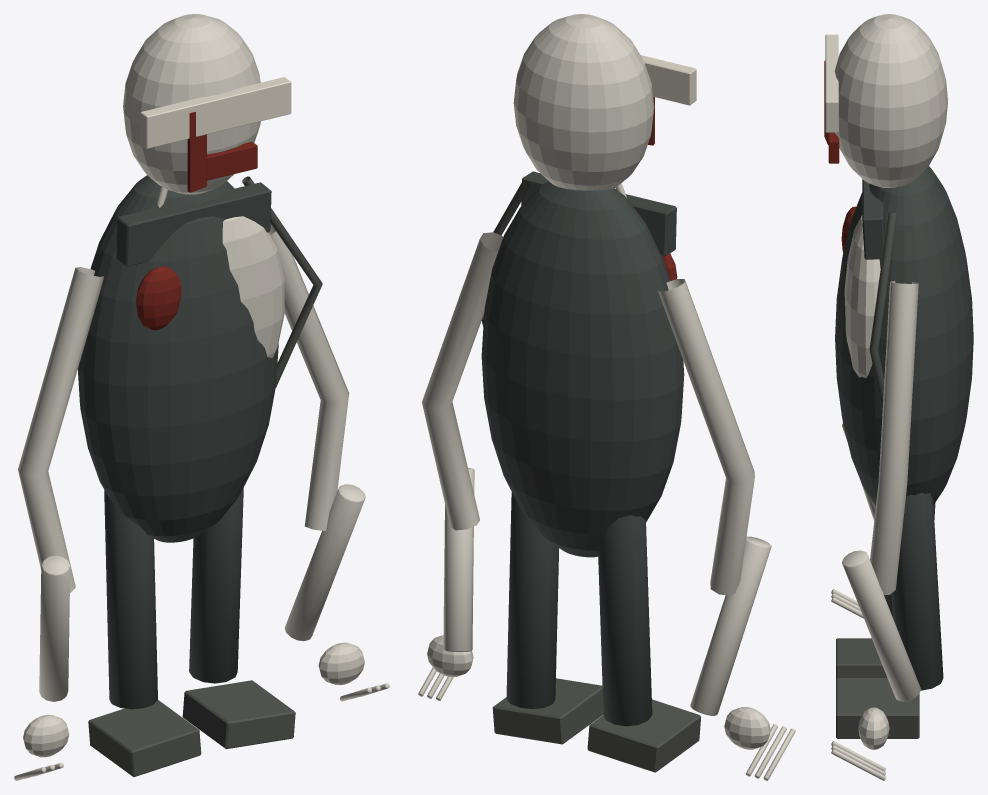
The model's file is dz_enemy_blind_male_B.glb.
3 views of the same model, side by side, from view 1: azimuth 30°, elevation 25°; view 2: azimuth 150°, elevation 25°; view 3: azimuth 270°, elevation 25° (orthographic). The views are drawn at different scales.
Visible parts, largest first — view 1: dz_torso_core, dz_head_forward, dz_limb_leg_L, dz_limb_arm_L, dz_limb_leg_R, dz_limb_arm_R, dz_foot_drag_L, dz_blindfold_wrapped_exact, dz_foot_drag_R, dz_chest_infected_growth, dz_torn_collar_male, dz_limb_forearm_R (+7 smaller); view 2: dz_torso_core, dz_head_forward, dz_limb_leg_L, dz_limb_arm_L, dz_limb_leg_R, dz_limb_arm_R, dz_limb_forearm_L, dz_foot_drag_L, dz_foot_drag_R, dz_limb_forearm_R, dz_torn_collar_male, dz_blindfold_wrapped_exact (+2 smaller); view 3: dz_torso_core, dz_head_forward, dz_limb_arm_R, dz_limb_leg_R, dz_limb_forearm_R, dz_foot_drag_R, dz_chest_infected_growth, dz_variant_B_loose_cable_or_hair, dz_foot_drag_L, dz_torn_collar_male, dz_blindfold_wrapped_exact, dz_hand_claw_R (+2 smaller).
Boxes of the visible parts, x1=… form: dz_torso_core: x1=77, y1=175, x2=278, y2=542; dz_head_forward: x1=123, y1=14, x2=260, y2=194; dz_limb_leg_L: x1=104, y1=490, x2=157, y2=709; dz_limb_arm_L: x1=18, y1=267, x2=104, y2=592; dz_limb_leg_R: x1=189, y1=487, x2=243, y2=683; dz_limb_arm_R: x1=268, y1=224, x2=349, y2=530; dz_foot_drag_L: x1=88, y1=700, x2=201, y2=776; dz_blindfold_wrapped_exact: x1=140, y1=77, x2=291, y2=148; dz_foot_drag_R: x1=182, y1=680, x2=295, y2=749; dz_chest_infected_growth: x1=222, y1=216, x2=284, y2=357; dz_torn_collar_male: x1=116, y1=182, x2=271, y2=266; dz_limb_forearm_R: x1=285, y1=484, x2=365, y2=641; dz_torso_core: x1=481, y1=181, x2=684, y2=557; dz_head_forward: x1=513, y1=14, x2=654, y2=190; dz_limb_leg_L: x1=598, y1=515, x2=652, y2=726; dz_limb_arm_L: x1=658, y1=279, x2=754, y2=595; dz_limb_leg_R: x1=506, y1=492, x2=558, y2=709; dz_limb_arm_R: x1=422, y1=232, x2=503, y2=530; dz_limb_forearm_L: x1=690, y1=536, x2=771, y2=715; dz_foot_drag_L: x1=587, y1=699, x2=700, y2=772; dz_foot_drag_R: x1=492, y1=678, x2=603, y2=744; dz_limb_forearm_R: x1=443, y1=468, x2=474, y2=651; dz_torn_collar_male: x1=521, y1=171, x2=676, y2=256; dz_blindfold_wrapped_exact: x1=640, y1=55, x2=696, y2=105; dz_torso_core: x1=835, y1=166, x2=973, y2=505; dz_head_forward: x1=834, y1=14, x2=947, y2=187; dz_limb_arm_R: x1=870, y1=281, x2=918, y2=595; dz_limb_leg_R: x1=891, y1=493, x2=943, y2=690; dz_limb_forearm_R: x1=842, y1=550, x2=921, y2=701; dz_foot_drag_R: x1=836, y1=678, x2=919, y2=738; dz_chest_infected_growth: x1=844, y1=215, x2=880, y2=377; dz_variant_B_loose_cable_or_hair: x1=869, y1=212, x2=897, y2=412; dz_foot_drag_L: x1=836, y1=638, x2=887, y2=678; dz_torn_collar_male: x1=862, y1=179, x2=884, y2=259; dz_blindfold_wrapped_exact: x1=825, y1=34, x2=838, y2=132; dz_hand_claw_R: x1=858, y1=707, x2=889, y2=749.
Size of what is drawn, in the model's own units: 1.01 by 1.99 by 0.393.
